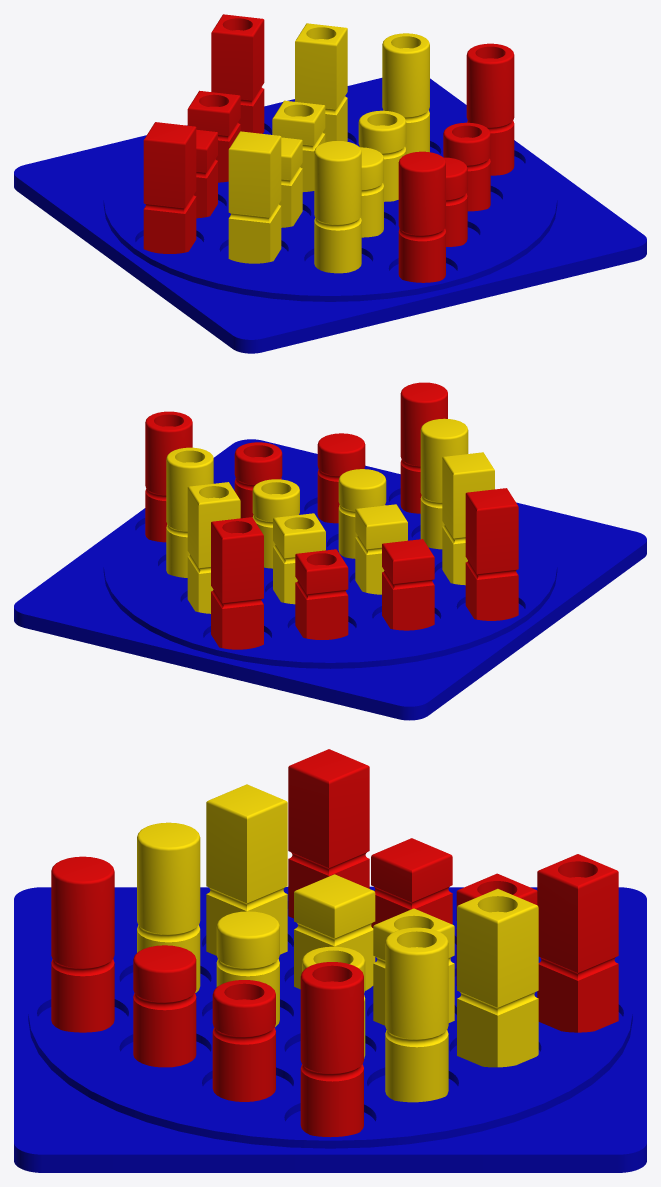
File: quartoBlend.dae
The picture shows the model from 3 angles, top to bottom: view 1: azimuth 30°, elevation 25°; view 2: azimuth 150°, elevation 25°; view 3: azimuth 270°, elevation 25°; orthographic projection. The views are drawn at different scales.
Parts seen in each view (by area): view 1: board, board_015, p5, p1, p9, p13, p16_002, p4_001, p8_001, p12, p16, p11 (+6 smaller); view 2: board, board_015, p1, p4_001, p2, p3, p5, p9, p8_001, p13, p16_002, p12 (+6 smaller); view 3: board, board_015, p8_001, p4_001, p13, p5, p1, p16_002, p12, p9, p14, p16 (+11 smaller).
Boxes of the visible parts, left/top/right/bottom form: board: left=14, top=78, right=646, bottom=353; board_015: left=103, top=105, right=557, bottom=301; p5: left=228, top=131, right=281, bottom=263; p1: left=143, top=122, right=196, bottom=253; p9: left=314, top=141, right=361, bottom=273; p13: left=398, top=151, right=445, bottom=282; p16_002: left=466, top=43, right=514, bottom=175; p4_001: left=211, top=14, right=264, bottom=133; p8_001: left=295, top=23, right=347, bottom=142; p12: left=382, top=33, right=429, bottom=154; p16: left=443, top=122, right=490, bottom=211; p11: left=358, top=110, right=406, bottom=201; board: left=14, top=439, right=646, bottom=720; board_015: left=103, top=471, right=557, bottom=668; p1: left=465, top=488, right=518, bottom=620; p4_001: left=211, top=517, right=263, bottom=649; p2: left=382, top=539, right=434, bottom=630; p3: left=295, top=549, right=348, bottom=639; p5: left=442, top=452, right=494, bottom=585; p9: left=420, top=418, right=468, bottom=549; p8_001: left=187, top=482, right=240, bottom=613; p13: left=400, top=382, right=447, bottom=513; p16_002: left=145, top=411, right=192, bottom=542; p12: left=166, top=447, right=213, bottom=577; board: left=14, top=887, right=646, bottom=1172; board_015: left=28, top=886, right=632, bottom=1148; p8_001: left=457, top=888, right=538, bottom=1067; p4_001: left=537, top=854, right=618, bottom=1032; p13: left=51, top=856, right=114, bottom=1032; p5: left=206, top=784, right=287, bottom=955; p1: left=288, top=749, right=369, bottom=918; p16_002: left=300, top=962, right=363, bottom=1137; p12: left=385, top=927, right=448, bottom=1102; p9: left=137, top=822, right=200, bottom=992; p14: left=133, top=945, right=196, bottom=1067; p16: left=212, top=980, right=275, bottom=1101.
Size of the model in its own units: 8.66 by 8.66 by 2.56.
